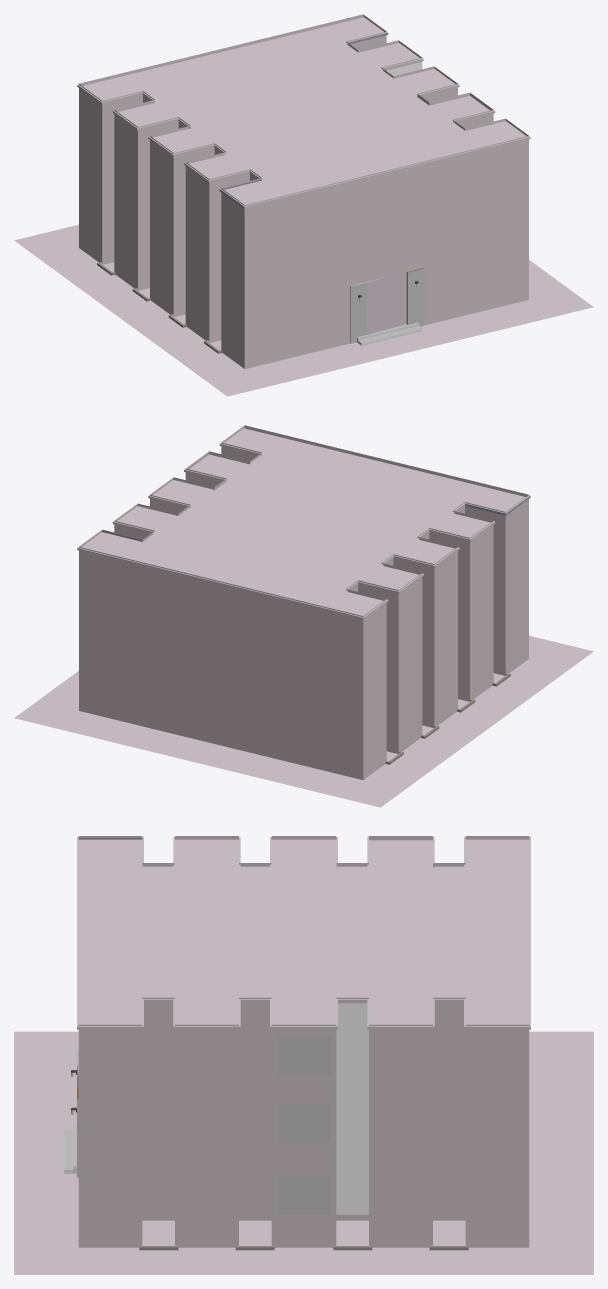
Rendered from Building_2.fbx.
3 views of the same model, one above another, from view 1: azimuth 30°, elevation 25°; view 2: azimuth 150°, elevation 25°; view 3: azimuth 270°, elevation 25° (orthographic). The views are drawn at different scales.
Parts seen in each view (by area): view 1: Urban_Apartment_Building1; view 2: Urban_Apartment_Building1; view 3: Urban_Apartment_Building1.
Boxes of the visible parts, x1,y1,x2,y2 form: Urban_Apartment_Building1: (14,14,593,396); Urban_Apartment_Building1: (14,425,593,807); Urban_Apartment_Building1: (14,836,593,1274).
Size of the model in its own units: 1800 by 770 by 1815.
